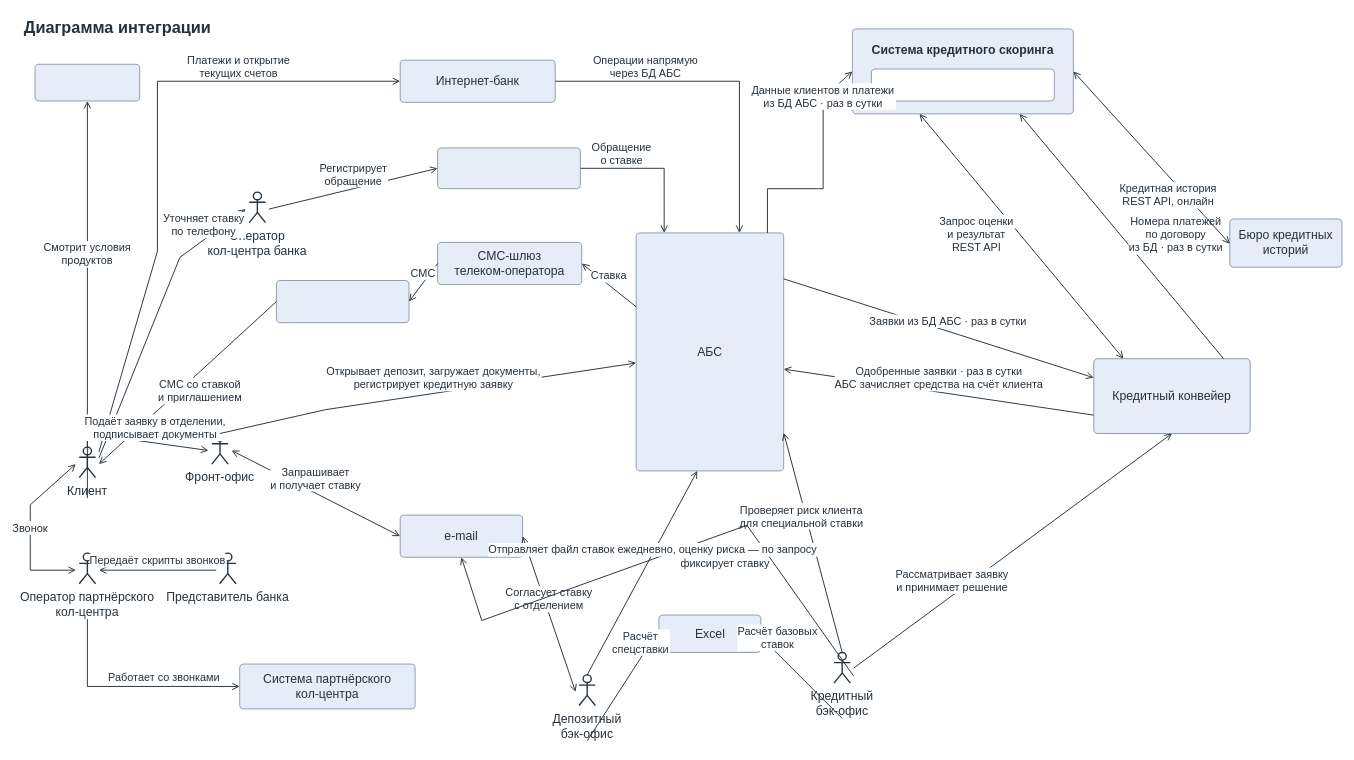
The diagram is 1354 pixels wide and 760 high, and some of its shapes have lost their labels. The centre of each missing label's shape, as x and y in pixels:
"Внутренний ML-сервис" goes at (x=962, y=84).
"Сайт" goes at (x=87, y=82).
"Система кол-центра" goes at (x=508, y=168).
"Телеком-оператор" goes at (x=342, y=301).
